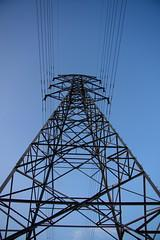power_tower: (0, 64, 160, 240)
